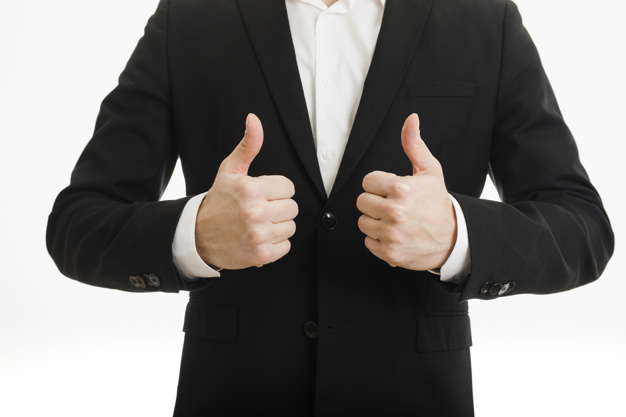thumbsup: (355, 112, 431, 269), (223, 111, 299, 265)
